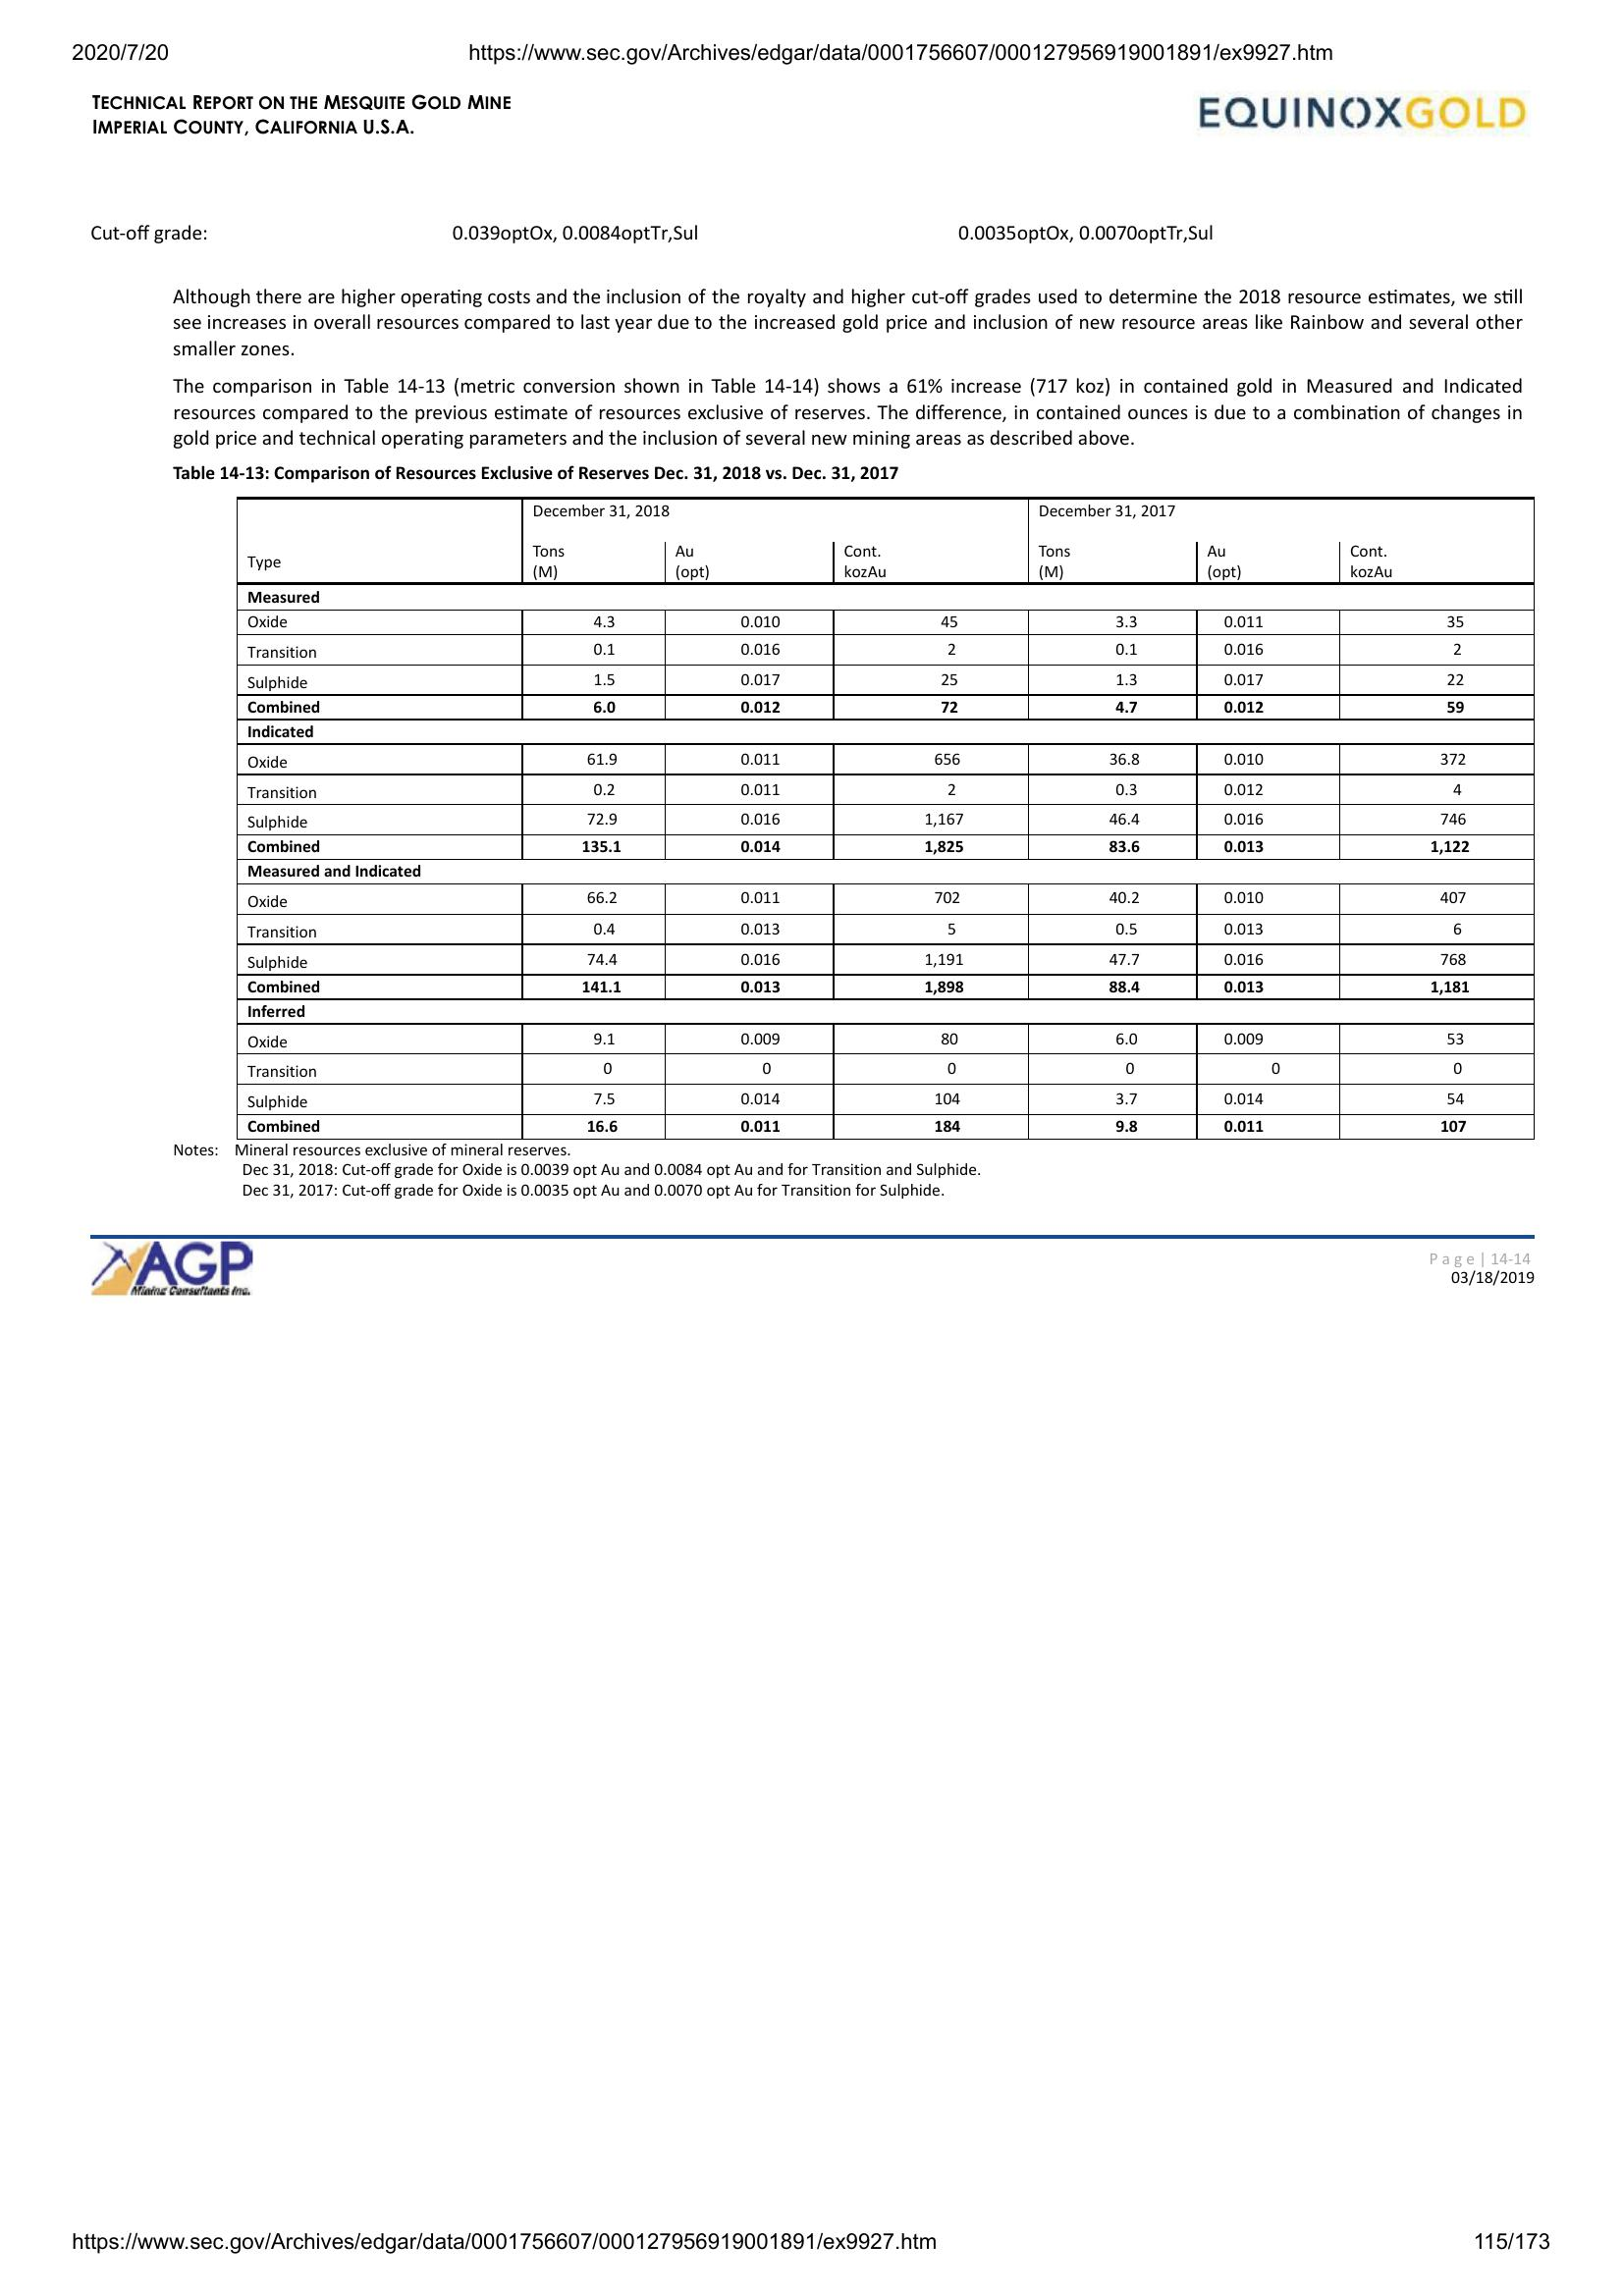table: (228, 491, 1544, 1143)
